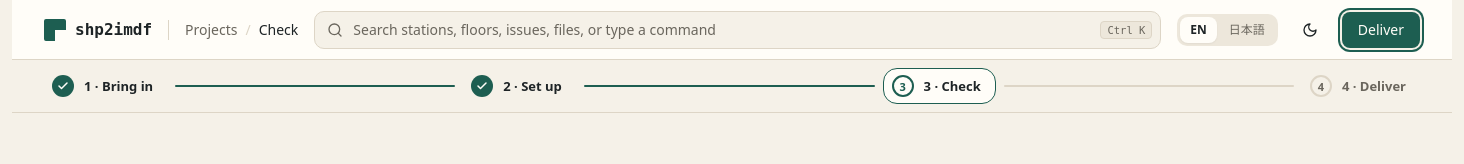
Test: primary action › a top-bar button that navigated does not stay beside the next page's own
This screenshot has width=1464, height=164.
Click the button "Deliver": (1381, 30) [1342,12,1420,48]
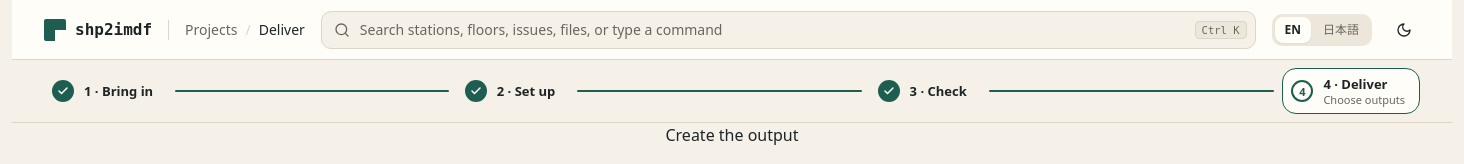
Result: the number of buttons "Create the output" is 1 at [12,123,1452,147]
